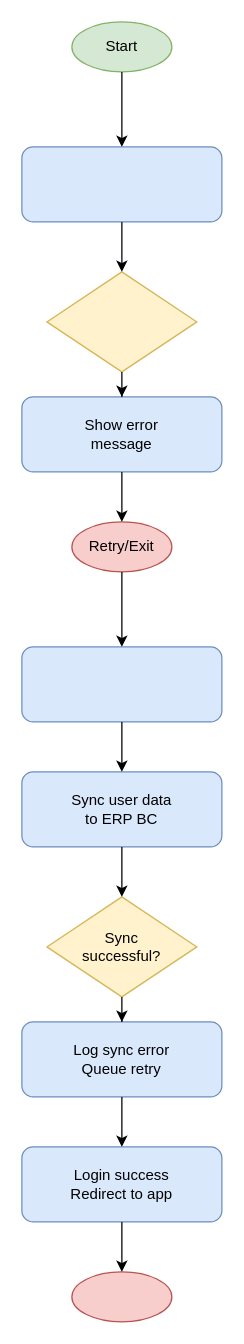
Image size: 244x1344. Some labels were removed from this diagram. Here are the shapes that lost their labels. From the top down, the centre of each, then its label:
(x=121, y=184): User enters email & password
(x=121, y=321): Valid credentials?
(x=121, y=684): Generate JWT Token
(x=121, y=1296): End
